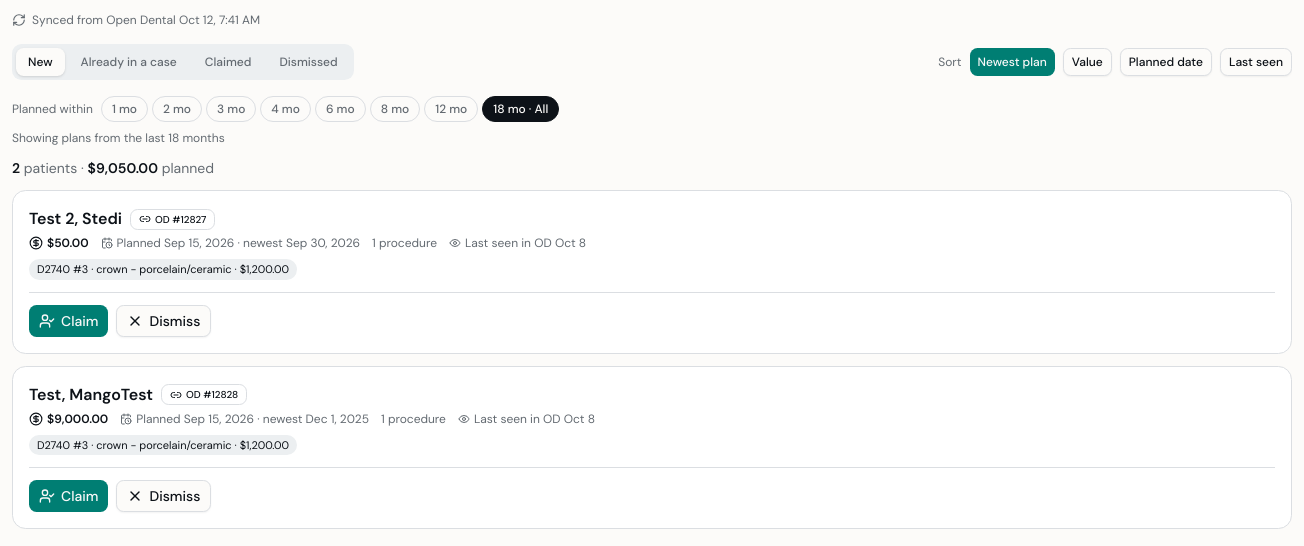
OpportunitiesInbox — window + chips › a chip re-queries with maxAgeMonths and the list + totals follow the server
Expected: the text "Test, MangoTest" is shown, x1=29 y1=382 x2=153 y2=406
Step 1. Click the button with test id "age-chip-3" → point(231, 109), box x1=206 y1=96 x2=256 y2=122
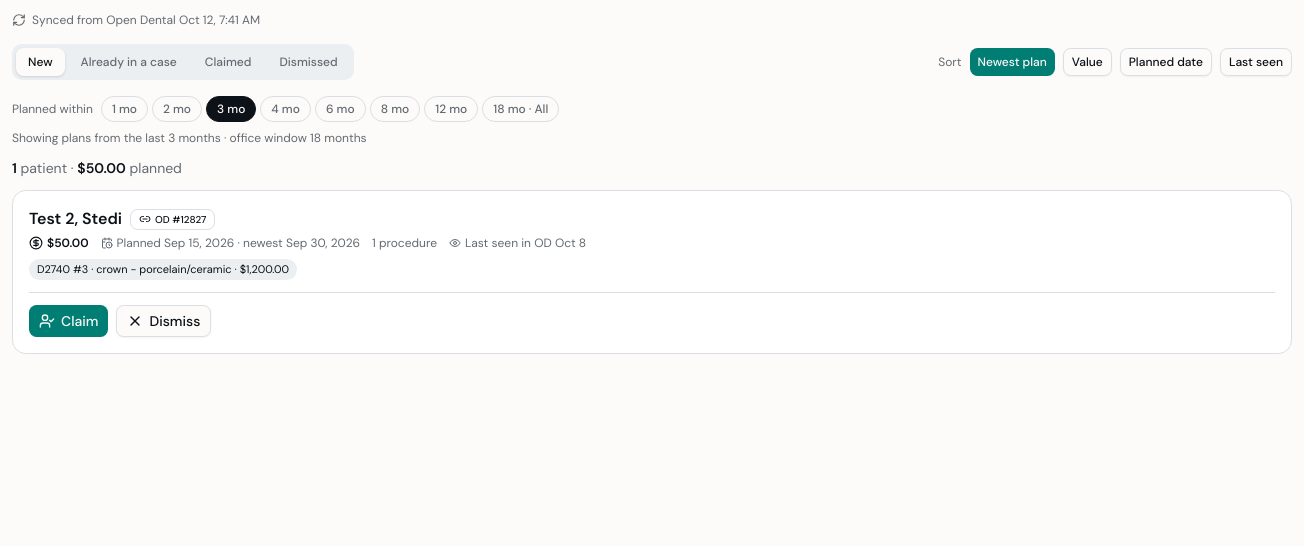
Expected: the text "Test, MangoTest" is gone
Expected: the element with test id "opportunity-totals" reads "1 patient · $50.00 planned", x1=12 y1=159 x2=182 y2=177
Expected: the text with test id "opportunity-window" reads "Showing plans from the last 3 months · office window 18 months", x1=12 y1=130 x2=367 y2=146
Note: Back to the window: no maxAgeMonths at all.
Step 2. Click the button with test id "age-chip-all" → point(521, 109), box x1=482 y1=96 x2=559 y2=122
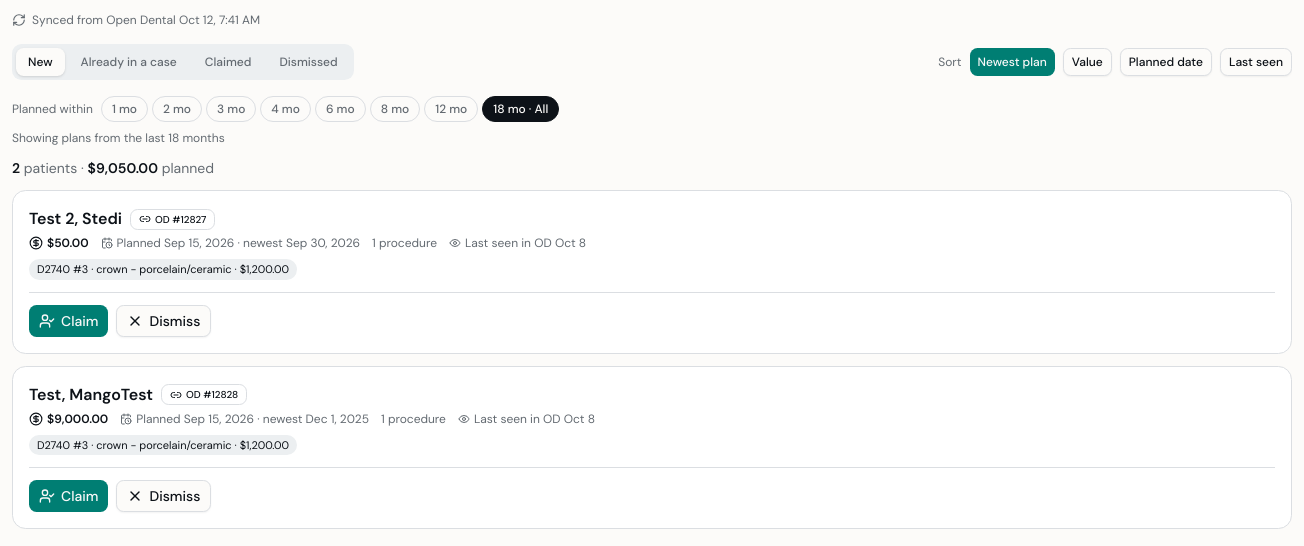
Expected: the text "Test, MangoTest" is shown, x1=29 y1=382 x2=153 y2=406
